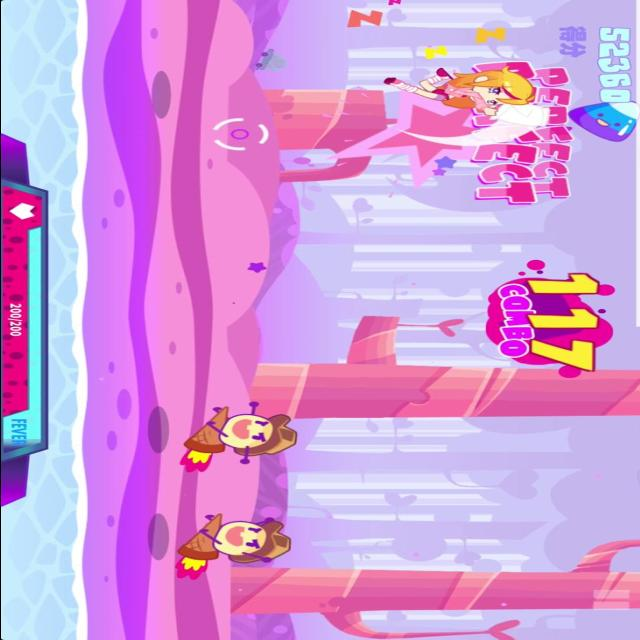jian: (563, 100, 639, 144)
qiu: (172, 399, 304, 475), (166, 510, 300, 582)
